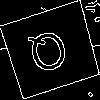Q: (25, 25, 74, 85)
